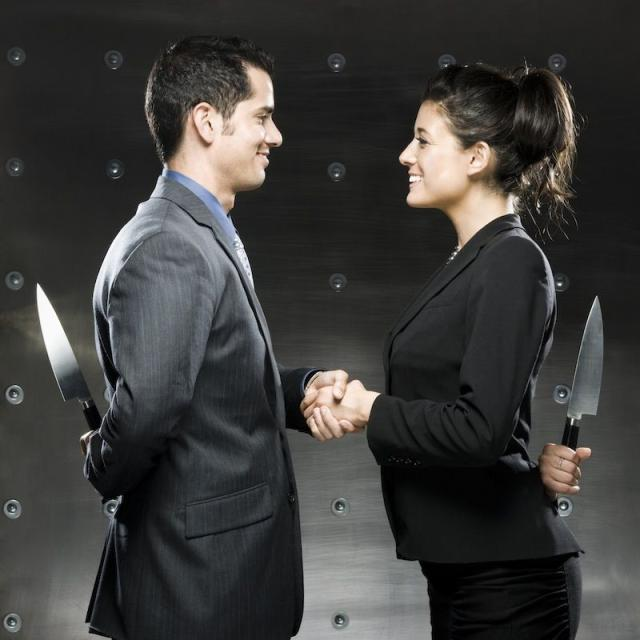knife: (26, 281, 108, 452), (567, 288, 613, 458)
